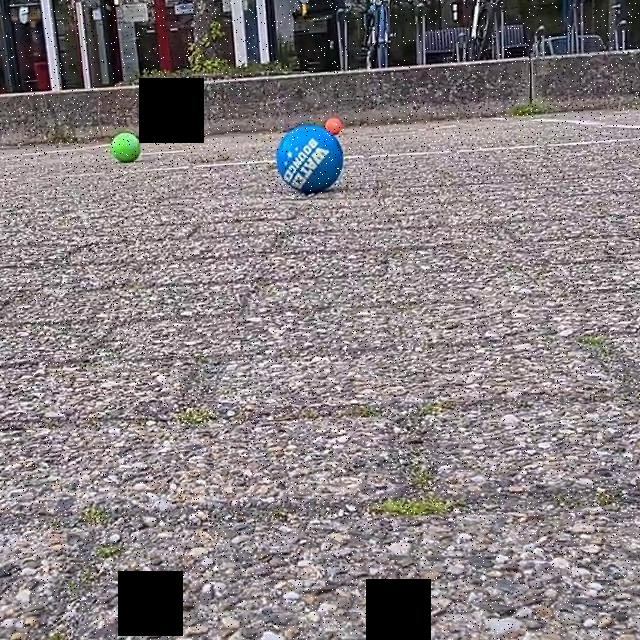ball: (109, 129, 141, 166), (324, 115, 346, 136)
